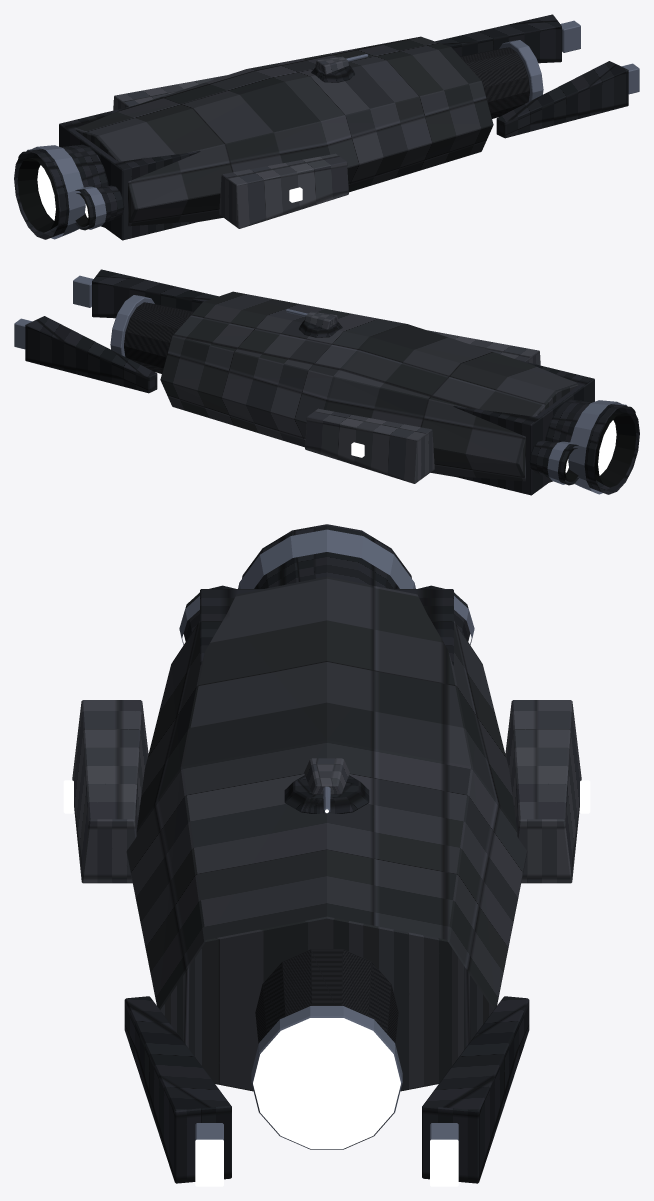
The model's file is commando.glb.
3 renders of one model, top to bottom at view 1: azimuth 30°, elevation 25°; view 2: azimuth 150°, elevation 25°; view 3: azimuth 270°, elevation 25°, orthographic. The views are drawn at different scales.
Parts seen in each view (by area): view 1: commando; view 2: commando; view 3: commando.
Part boxes in pixels (x1=…): commando: x1=14, y1=14, x2=639, y2=240; commando: x1=14, y1=269, x2=639, y2=495; commando: x1=63, y1=524, x2=590, y2=1186.
Bounding box in the file's own units: 22 × 4.28 × 8.79.
Materials: 1 (1 with a texture image).
